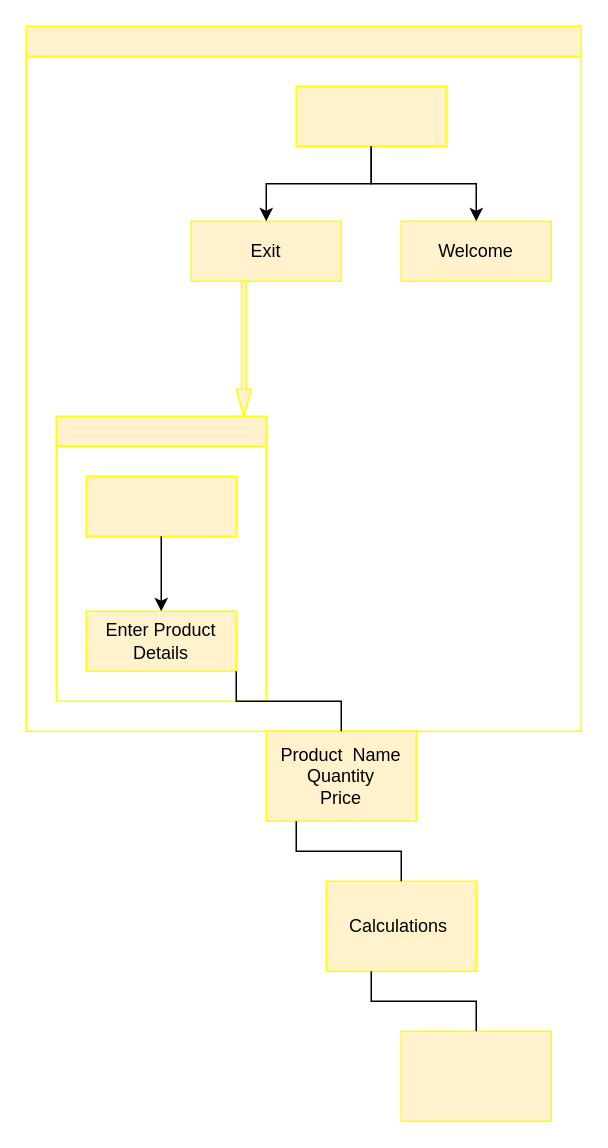
This 608x1148 diagram has some shape labels left out. The centre of each missing label's shape, as x and y in pixels:
Admin, Customer details: the point at 160,505
Generating Invoice: the point at 475,1075
Tea Stall: the point at 370,115
